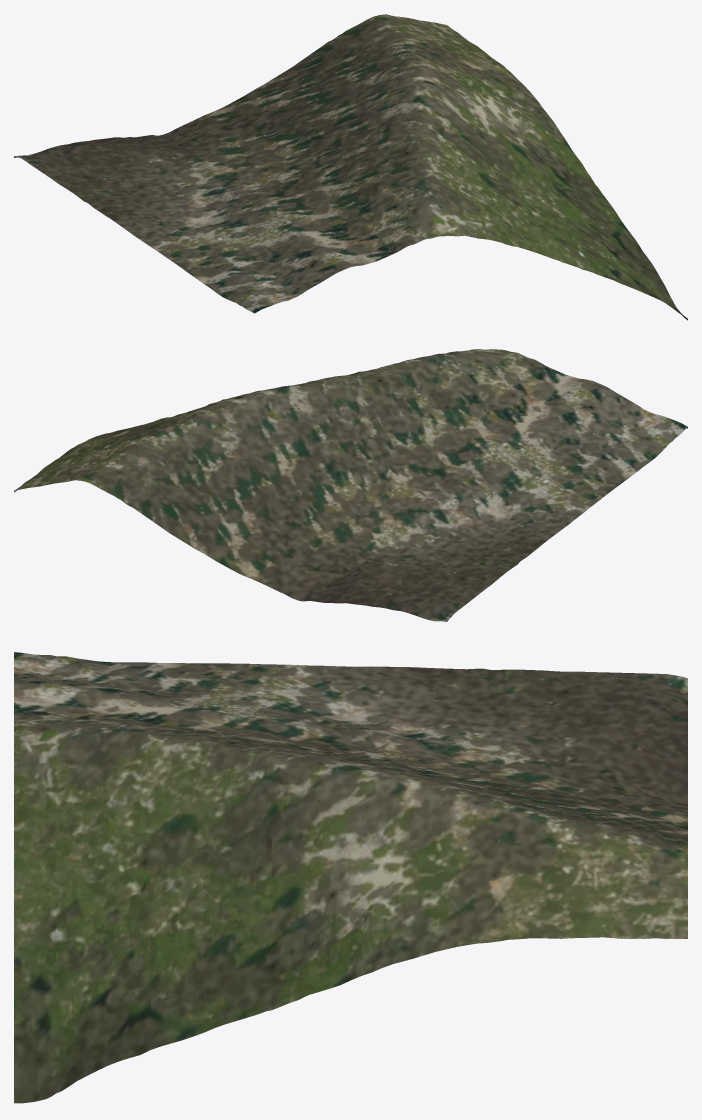
3 renders of one model, top to bottom at view 1: azimuth 30°, elevation 25°; view 2: azimuth 150°, elevation 25°; view 3: azimuth 270°, elevation 25°, orthographic. The views are drawn at different scales.
Size of the model in its own units: 250 by 93.48 by 241.
1 material, 1 textured.
